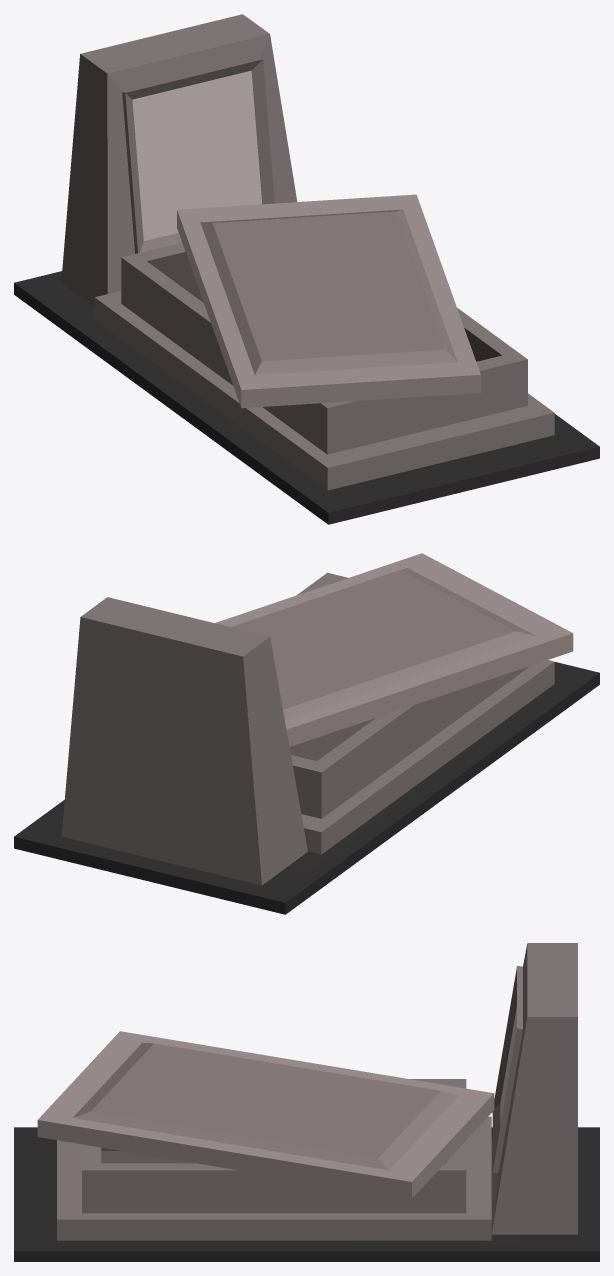
The model's file is HWN20_Grave_08.glb.
3 views of the same model, one above another, from view 1: azimuth 30°, elevation 25°; view 2: azimuth 150°, elevation 25°; view 3: azimuth 270°, elevation 25° (orthographic). The views are drawn at different scales.
Parts seen in each view (by area): view 1: HWN20_Grave_08; view 2: HWN20_Grave_08; view 3: HWN20_Grave_08.
Boxes of the visible parts, x1=… form: HWN20_Grave_08: x1=14, y1=14, x2=599, y2=524; HWN20_Grave_08: x1=14, y1=553, x2=599, y2=914; HWN20_Grave_08: x1=14, y1=943, x2=599, y2=1261.
Size of what is drawn, in the model's own units: 1.46 by 0.991 by 2.39.
Materials: 1 (1 with a texture image).
